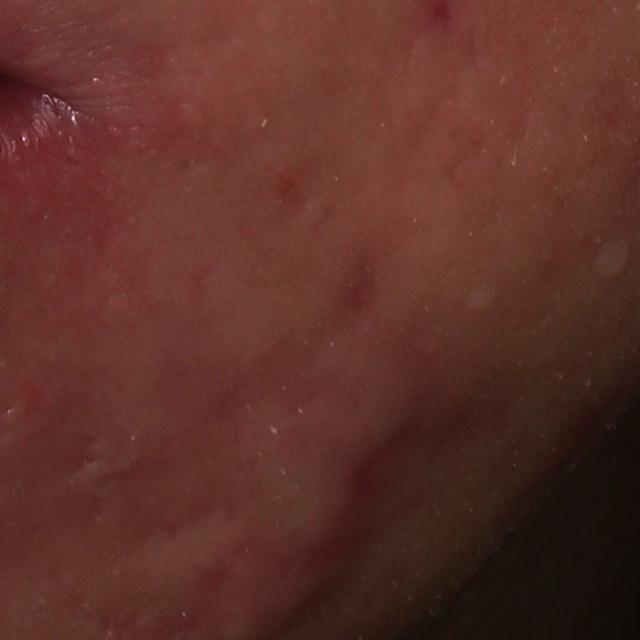hypertrophic_scar: (68, 430, 149, 503)
other: (588, 232, 637, 287), (458, 273, 504, 318)
